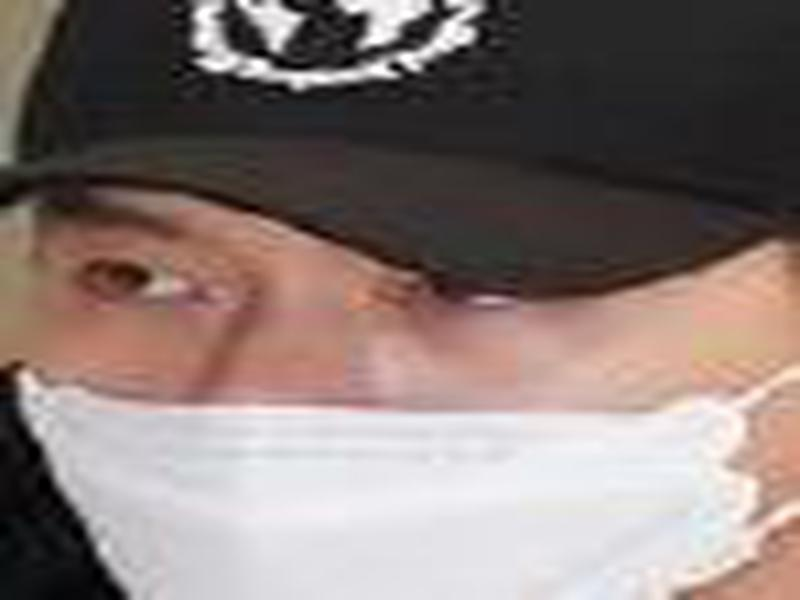with_mask: (1, 184, 795, 600)
